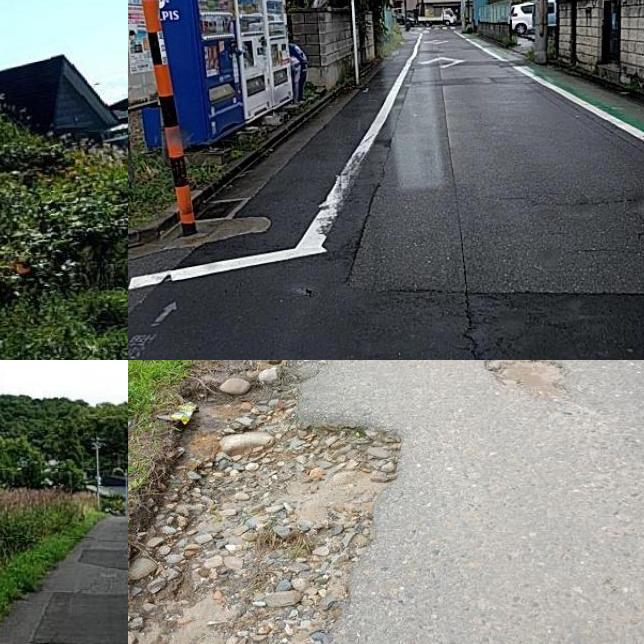Lubang: (476, 360, 569, 401)
Pinggir: (128, 360, 415, 644)
Sambungan: (357, 80, 644, 294), (37, 588, 128, 643)
